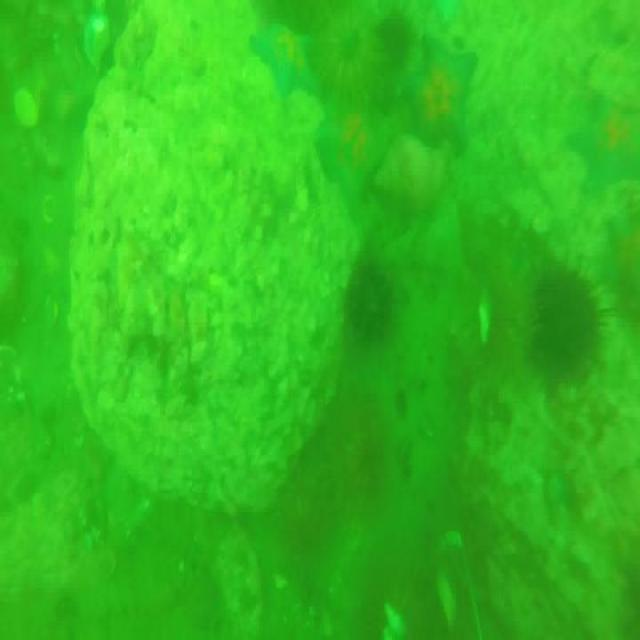echinus: (528, 257, 616, 392), (337, 253, 398, 351), (372, 9, 413, 72)
scallop: (12, 88, 38, 128), (40, 196, 60, 228)
starfish: (568, 82, 640, 199), (315, 101, 392, 204), (413, 35, 479, 155), (251, 14, 325, 103)
